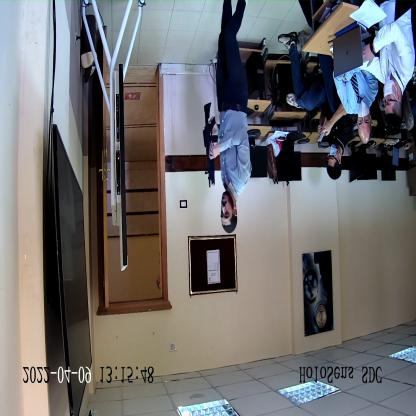handgun: (201, 95, 218, 183)
